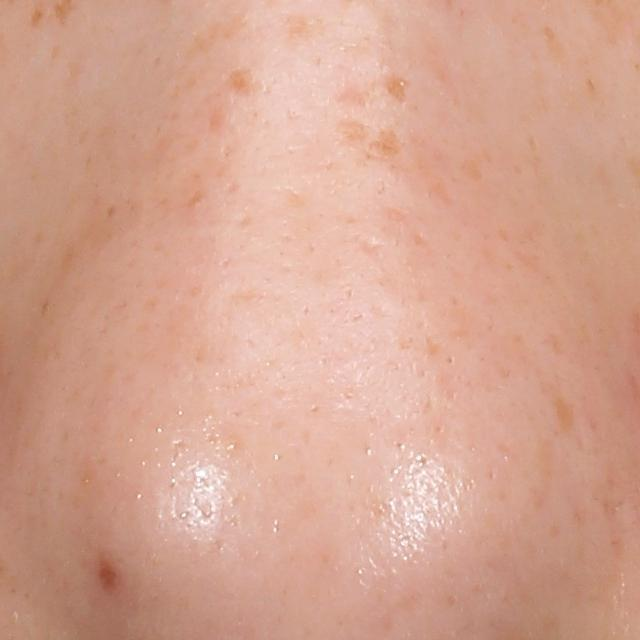melasma: (186, 8, 253, 59), (223, 67, 269, 98), (286, 12, 326, 47), (362, 126, 399, 163), (553, 393, 582, 438), (378, 72, 414, 108), (456, 148, 487, 187), (337, 118, 372, 149), (27, 3, 48, 31)
